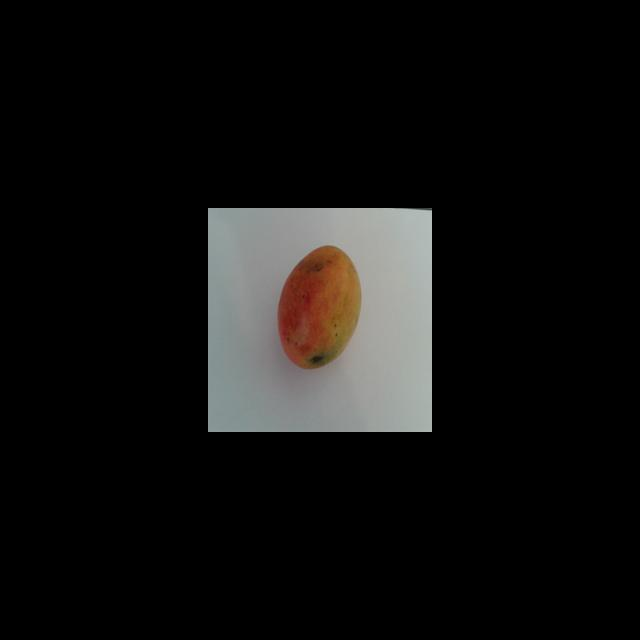Mango: (276, 244, 361, 369)
